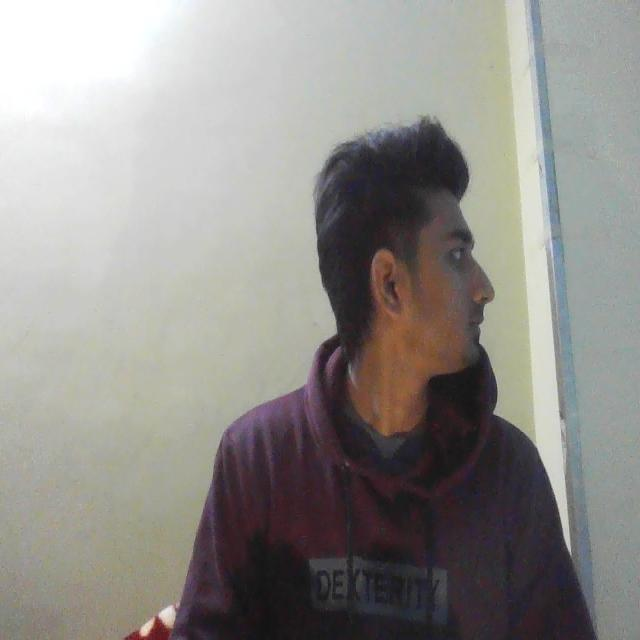real: (357, 133, 507, 416)
